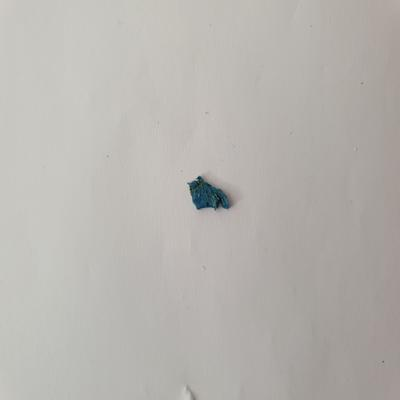plastic: (184, 174, 236, 215)
